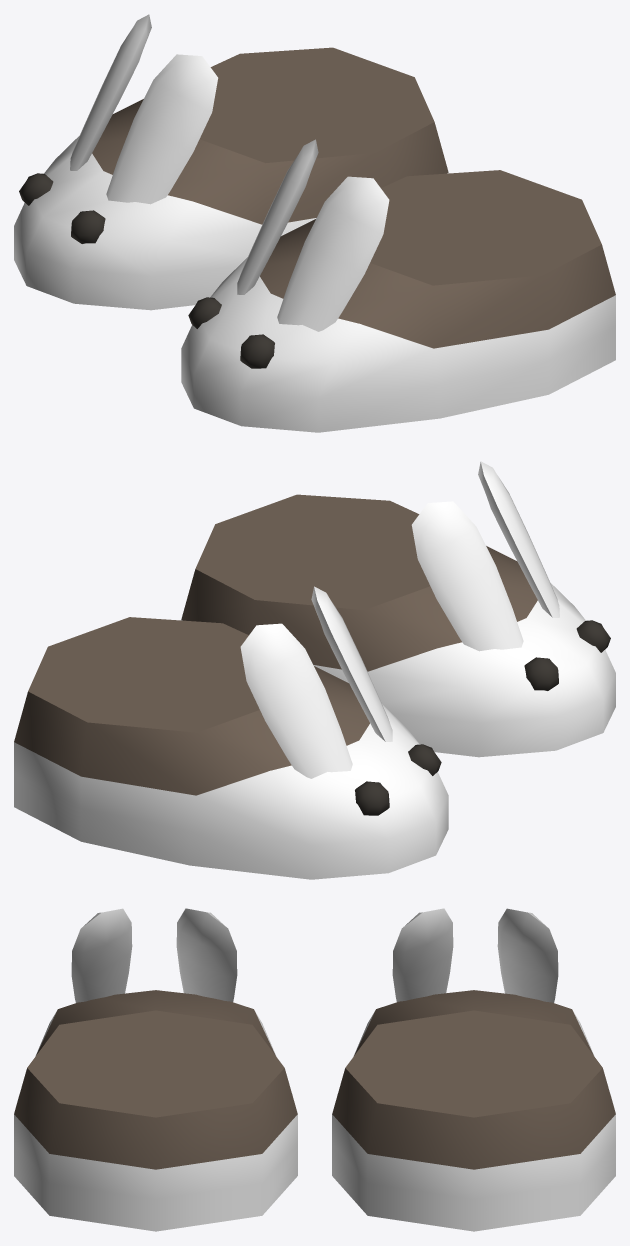
Rendered from bunny_slippers.fbx.
3 renders of one model, top to bottom at view 1: azimuth 30°, elevation 25°; view 2: azimuth 150°, elevation 25°; view 3: azimuth 270°, elevation 25°, orthographic. The views are drawn at different scales.
Visible parts, largest first — view 1: Cube.000; view 2: Cube.000; view 3: Cube.000.
Boxes of the visible parts, x1=… form: Cube.000: x1=14, y1=14, x2=615, y2=432; Cube.000: x1=14, y1=461, x2=615, y2=879; Cube.000: x1=14, y1=908, x2=615, y2=1231.
Bounding box in the file's own units: 84.79 × 43.36 × 116.
